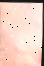plaque psoriasis: (4, 64, 42, 66), (40, 42, 43, 66)
